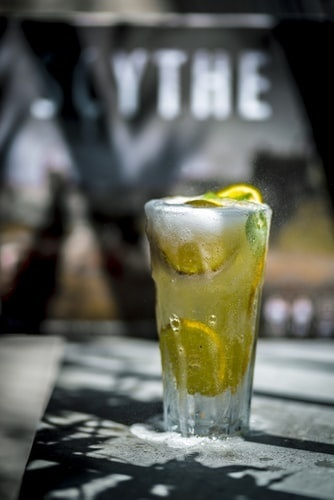whiskey: (142, 198, 271, 426)
